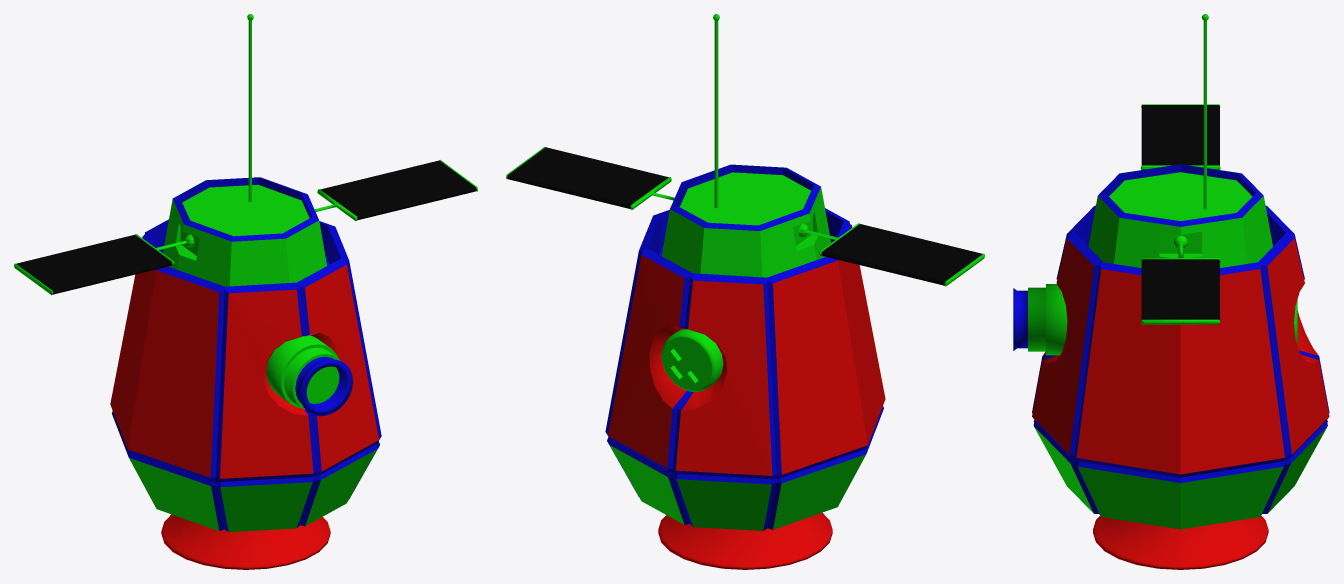
File: spaceCapsule.fbx
The picture shows the model from 3 angles, left to right: view 1: azimuth 30°, elevation 25°; view 2: azimuth 150°, elevation 25°; view 3: azimuth 270°, elevation 25°; orthographic projection. The views are drawn at different scales.
Visible parts, largest first — view 1: ShipCapsule; view 2: ShipCapsule; view 3: ShipCapsule.
Part boxes in pixels (x1,y1,x2,y2): ShipCapsule: (14,14,477,569); ShipCapsule: (506,14,984,569); ShipCapsule: (1013,14,1329,569).
Bounding box in the file's own units: 359 × 407 × 221.
